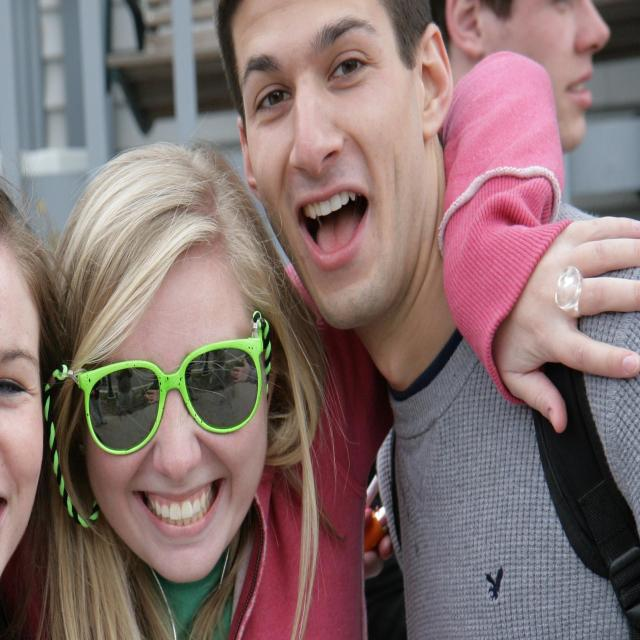no-glass: (253, 46, 371, 120)
